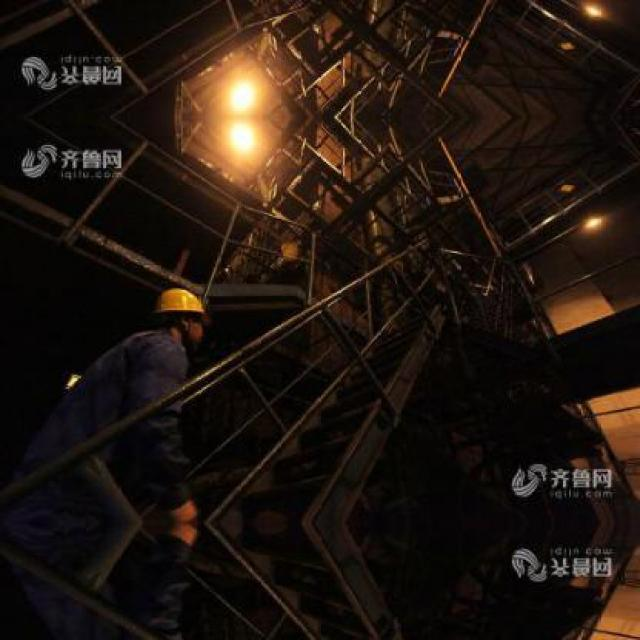hat: (146, 278, 209, 326)
